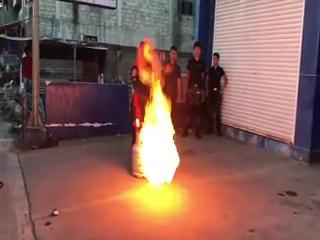Fire: (134, 39, 182, 186)
